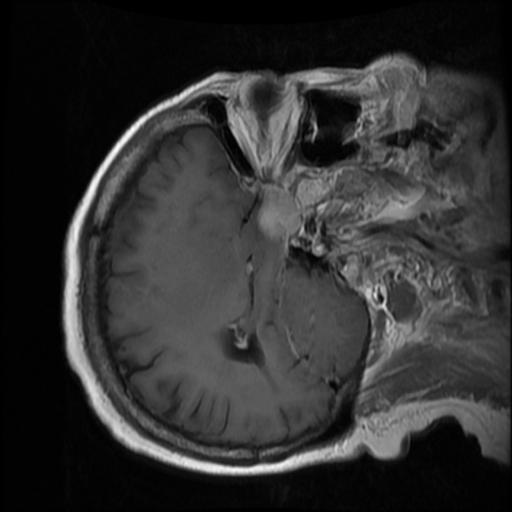meningioma: (256, 185, 303, 241)
